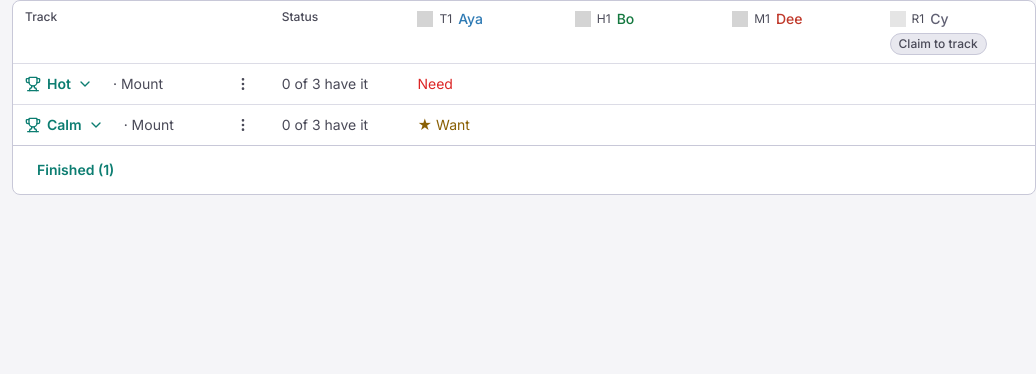
it: ProgressMatrix row menu column › opens Edit · Mark finished · Delete on an active row, and Reopen · Delete on a finished one
This screenshot has width=1036, height=374.
Click the button "Finished (1)". click: (76, 170)
box: [25,154,126,186]
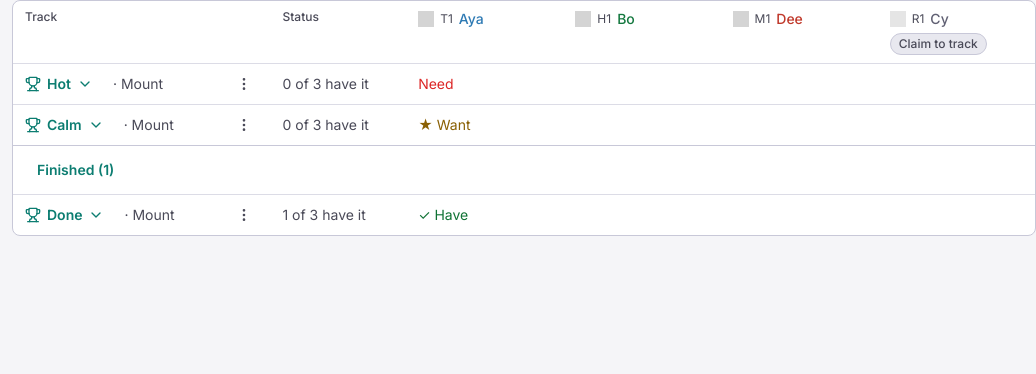
Click the button named "Actions for ". click: (244, 84)
box: [230,70,258,98]
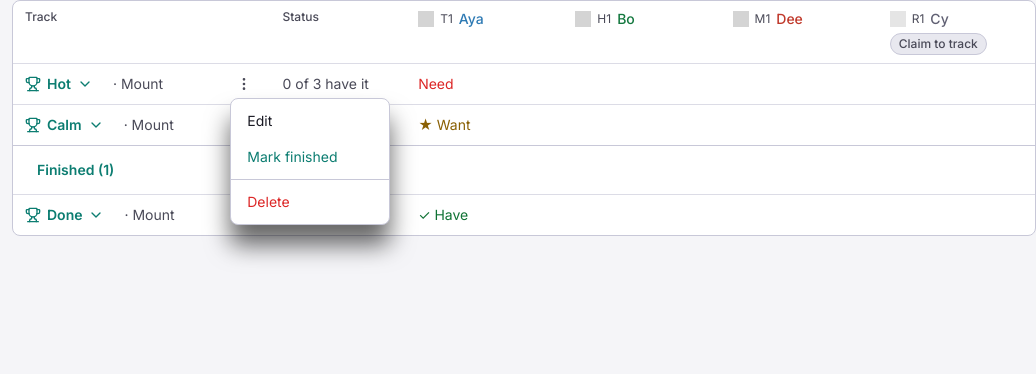
Now the menu items read "Edit", "Mark finished", "Delete", in this order
Press Escape in the menu item "Mark finished", box [231,139,389,175]
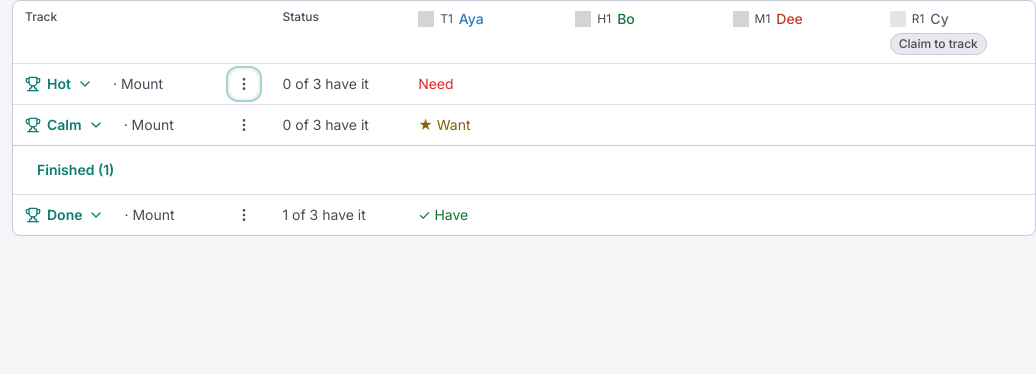
Click the button named "Actions for ". click: (244, 215)
box: [230,201,258,229]
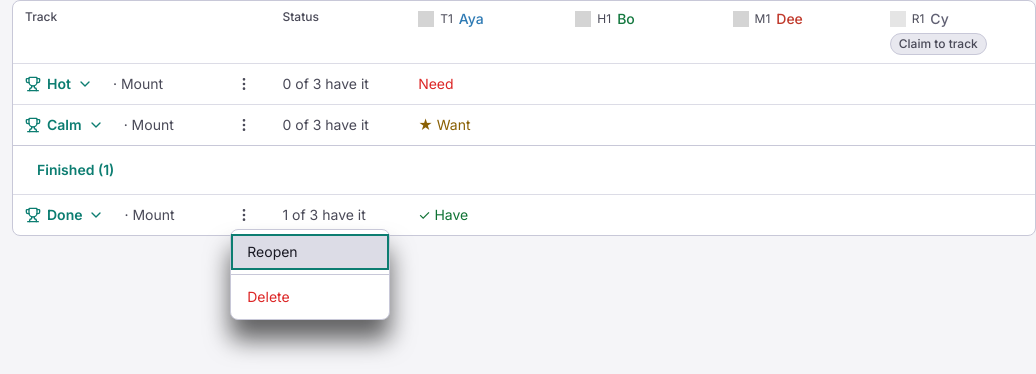
Now the menu items read "Reopen", "Delete", in this order, box [231,234,389,270]; [231,279,389,315]
